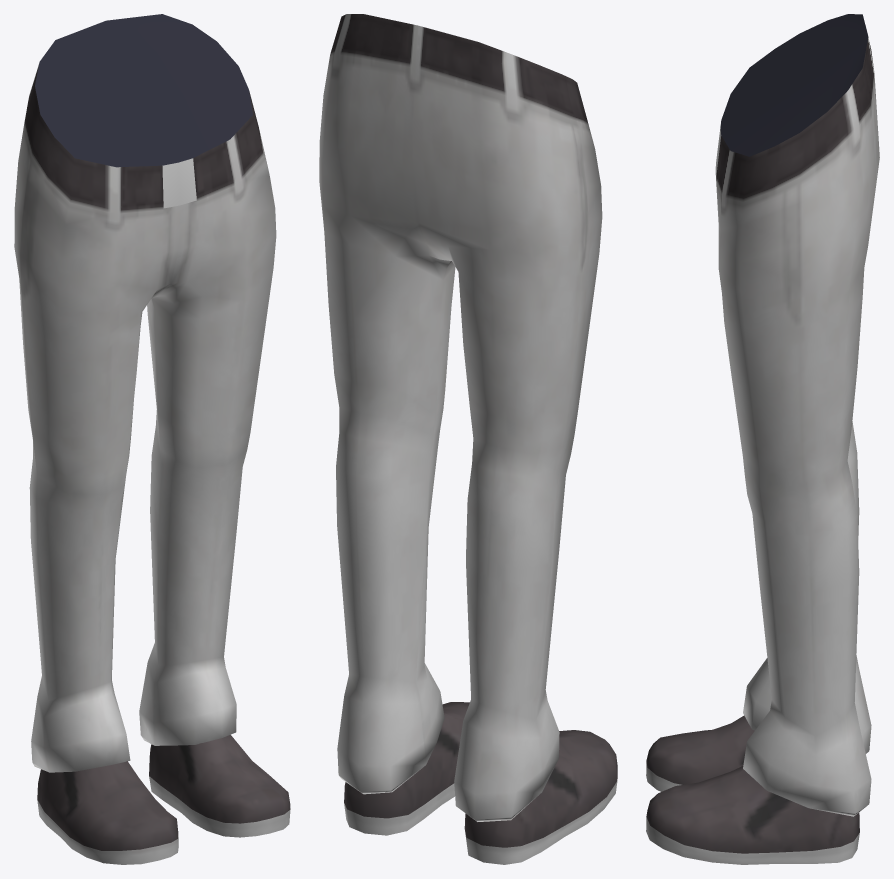
File: tr0800_00_lwb00.gltf
3 renders of one model, left to right at view 1: azimuth 30°, elevation 25°; view 2: azimuth 150°, elevation 25°; view 3: azimuth 270°, elevation 25°, orthographic. The views are drawn at different scales.
Parts seen in each view (by area): view 1: lwb00_lowerbody_mesh_shape:lowerbody00, lwb00_shoes_mesh_shape:lowerbody00; view 2: lwb00_lowerbody_mesh_shape:lowerbody00, lwb00_shoes_mesh_shape:lowerbody00; view 3: lwb00_lowerbody_mesh_shape:lowerbody00, lwb00_shoes_mesh_shape:lowerbody00.
Part boxes in pixels (x1,y1,x2,y2): lwb00_lowerbody_mesh_shape:lowerbody00: [14, 14, 276, 772]; lwb00_shoes_mesh_shape:lowerbody00: [37, 735, 290, 864]; lwb00_lowerbody_mesh_shape:lowerbody00: [319, 14, 602, 821]; lwb00_shoes_mesh_shape:lowerbody00: [344, 702, 617, 864]; lwb00_lowerbody_mesh_shape:lowerbody00: [715, 14, 879, 816]; lwb00_shoes_mesh_shape:lowerbody00: [646, 715, 859, 864].
Size of what is drawn, in the model's own units: 0.3183 by 0.9783 by 0.2638.
1 material, 1 textured.
